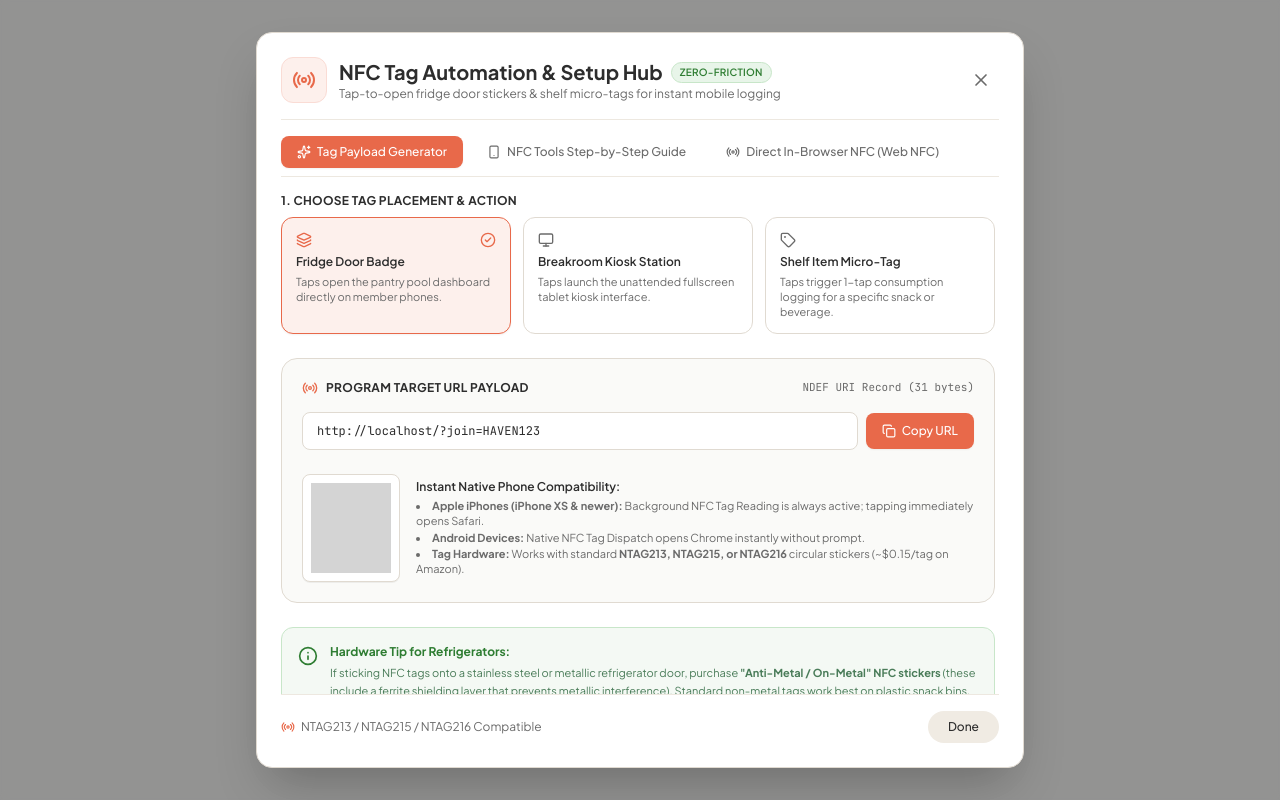
Scenario: NFCTagModal Component › switches to Direct In-Browser NFC (Web NFC) tab
Click the button "Direct In-Browser NFC (Web NFC)". click: point(833, 152)
box: [710,136,955,168]
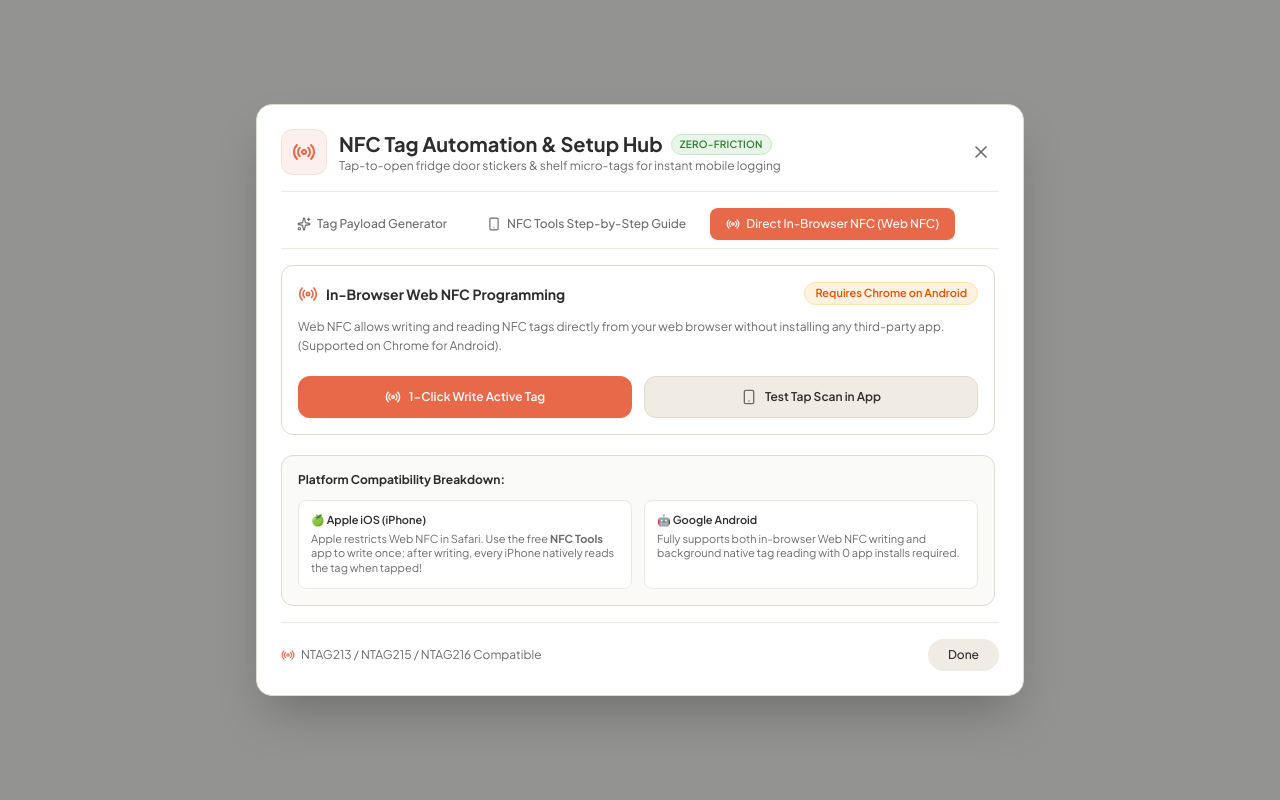
Now the text "In-Browser Web NFC Programming" is shown, box [326,284,565,304]
Now the text "1-Click Write Active Tag" is shown, box [409,389,545,405]
